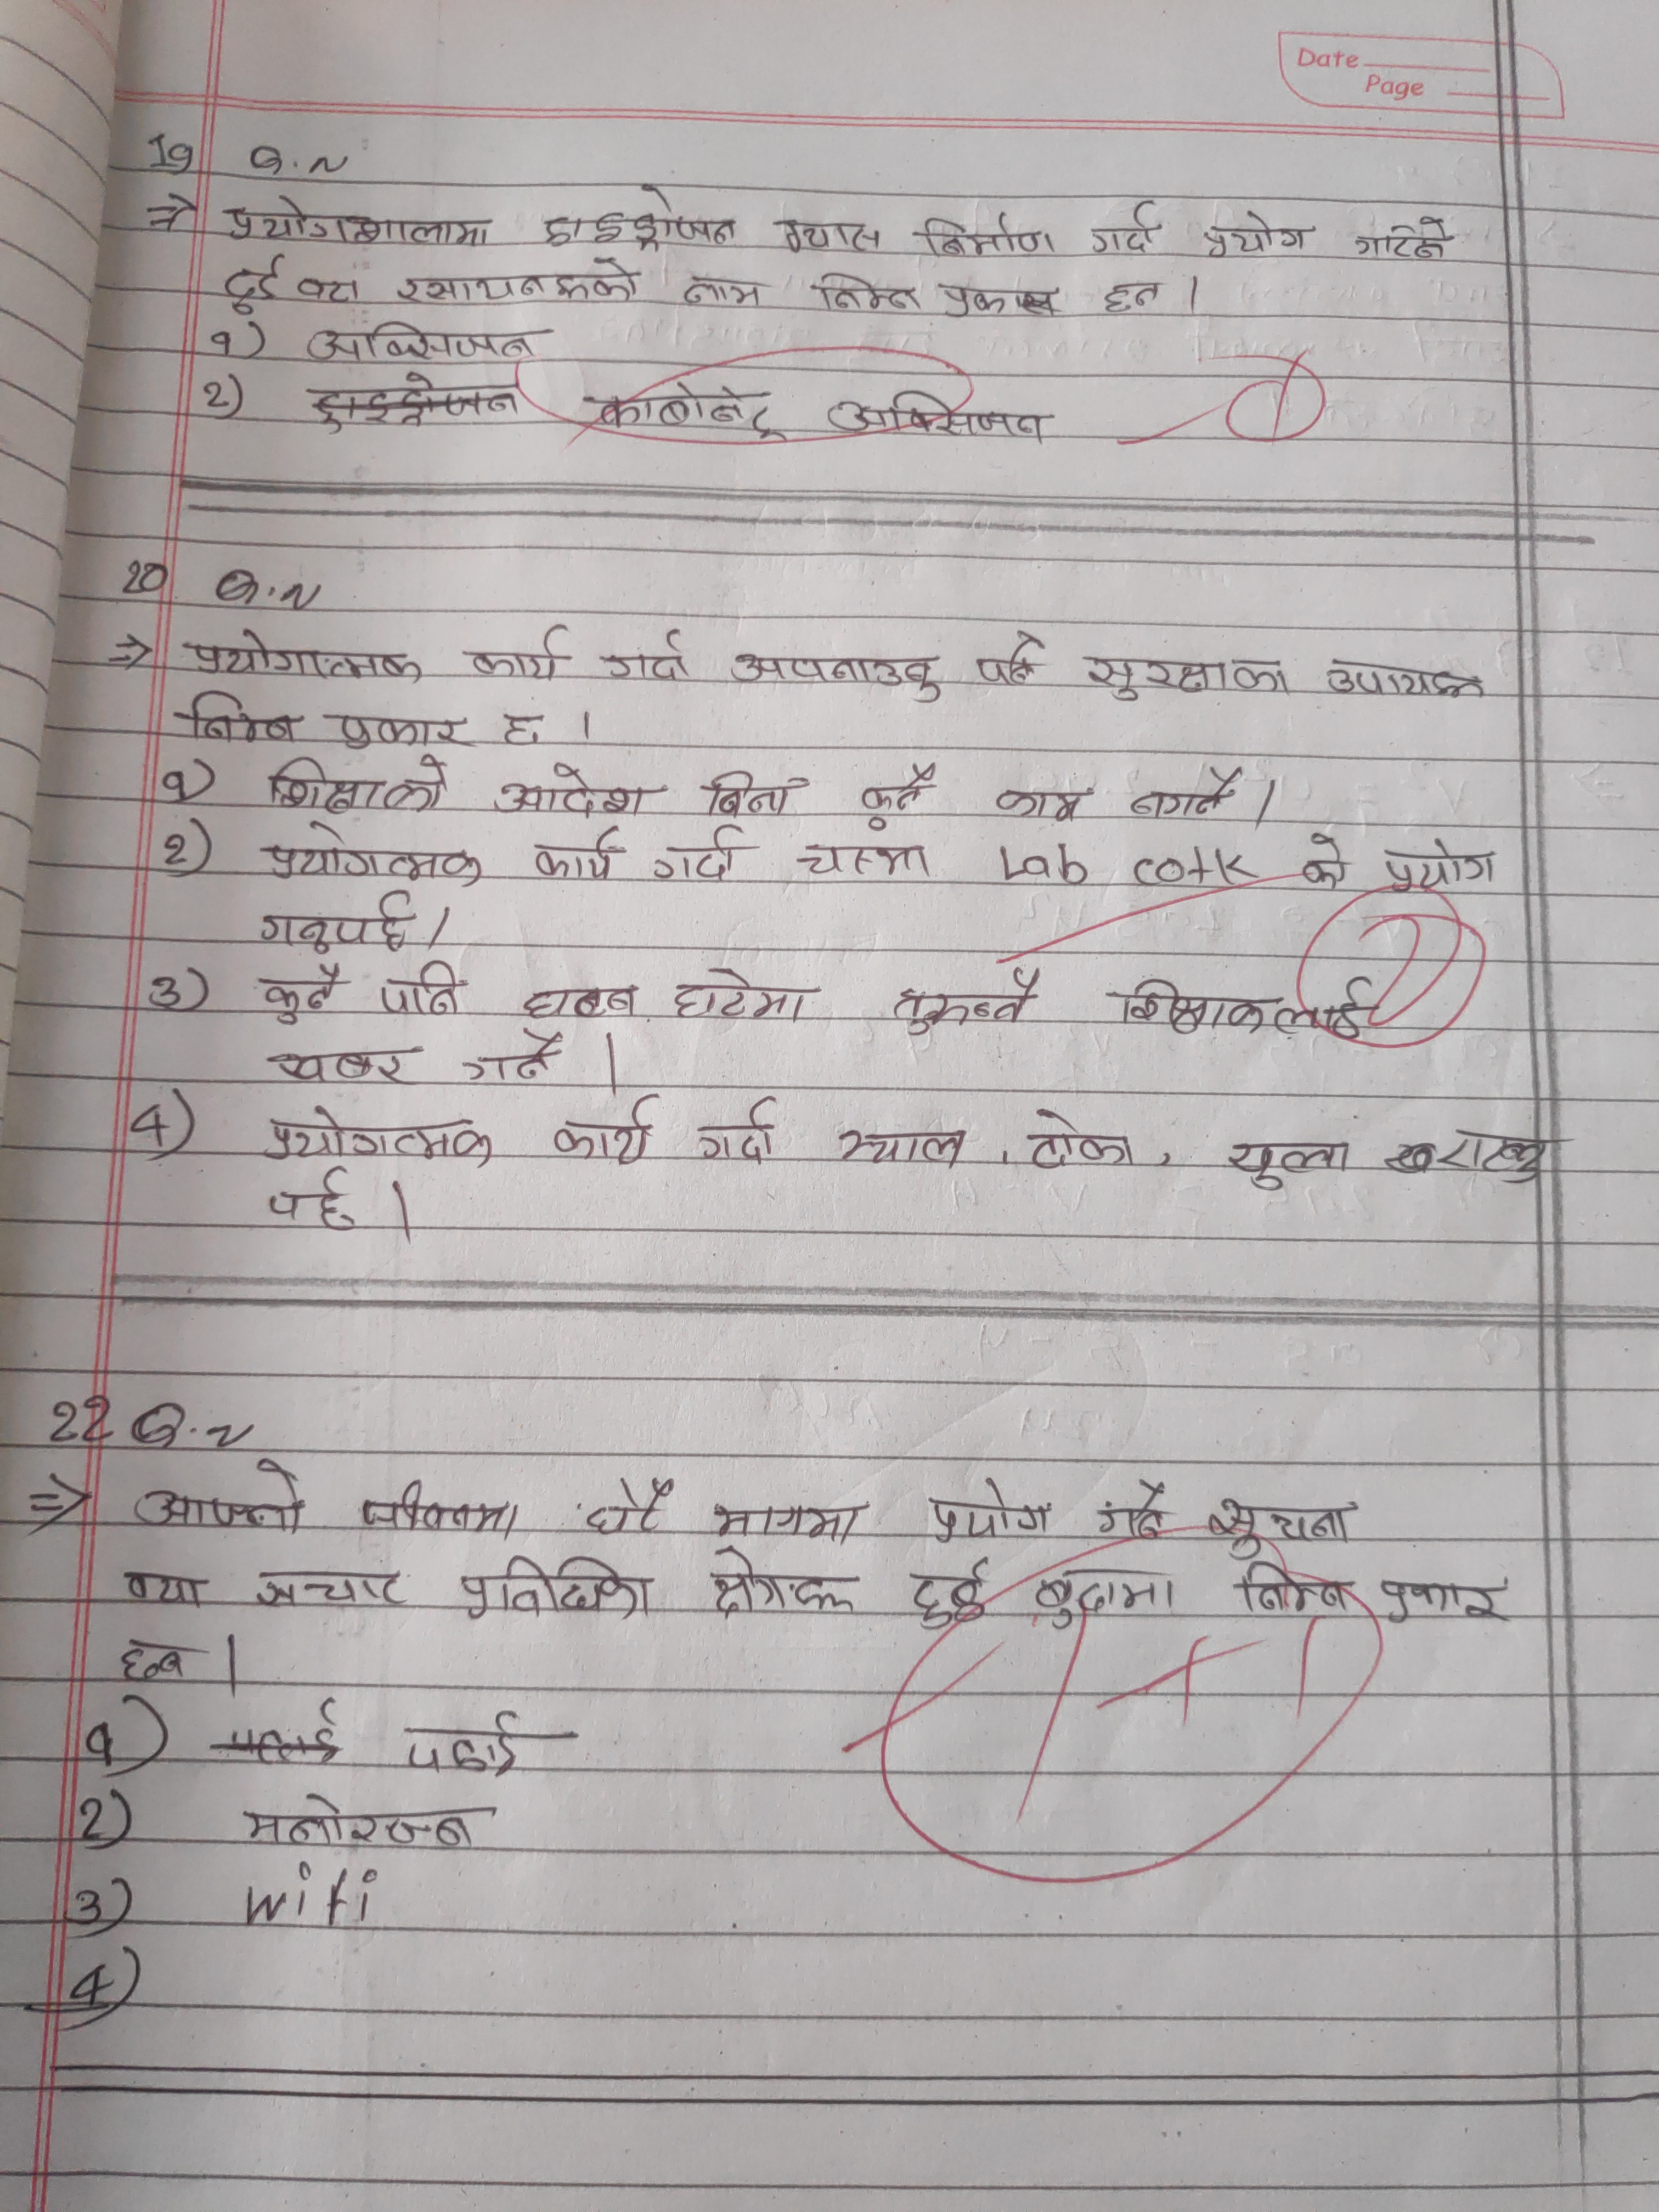text: (225, 192, 495, 256), (1117, 977, 1373, 1042), (263, 819, 486, 890), (455, 1548, 655, 1625), (240, 1789, 484, 1851), (538, 181, 746, 254), (267, 1106, 497, 1169), (132, 1458, 310, 1538), (817, 388, 1051, 449), (587, 376, 784, 448), (305, 312, 547, 366), (396, 258, 645, 310), (732, 650, 943, 711), (185, 627, 420, 681), (704, 1541, 854, 1623), (263, 752, 450, 817), (890, 967, 1051, 1040), (1080, 650, 1297, 700), (256, 890, 415, 958), (1204, 1491, 1363, 1559), (361, 1475, 526, 1538), (497, 759, 653, 822), (927, 1474, 1056, 1548), (1028, 1562, 1176, 1627), (673, 963, 812, 1029), (401, 1709, 532, 1778), (249, 1561, 404, 1618), (549, 1090, 659, 1169), (826, 1120, 974, 1176), (1222, 1134, 1354, 1195), (1023, 1106, 1138, 1174), (1323, 655, 1488, 702), (915, 207, 1058, 261), (265, 1160, 362, 1238), (1434, 1120, 1547, 1186), (1129, 759, 1244, 824), (1230, 1559, 1358, 1616), (709, 1496, 870, 1541), (462, 618, 573, 683), (267, 1038, 413, 1087), (1378, 840, 1499, 897), (181, 688, 305, 744), (906, 1554, 995, 1630), (1371, 1578, 1511, 1627), (690, 1094, 779, 1169), (333, 707, 474, 752), (458, 1029, 568, 1087), (795, 836, 932, 881), (1201, 207, 1314, 261), (769, 211, 889, 261), (938, 279, 1058, 329), (1352, 209, 1452, 270), (809, 268, 924, 320), (582, 1474, 674, 1538), (650, 824, 744, 887), (528, 827, 624, 888), (852, 761, 936, 831), (375, 960, 467, 1022), (1093, 1477, 1175, 1547), (256, 960, 343, 1024), (594, 627, 694, 681), (699, 768, 795, 820), (519, 981, 643, 1021), (1089, 193, 1164, 258), (220, 253, 289, 317), (967, 631, 1049, 685), (113, 1632, 193, 1684), (995, 782, 1094, 824), (120, 1568, 209, 1611), (1297, 831, 1352, 895), (678, 272, 765, 312), (1101, 273, 1164, 320), (293, 275, 364, 305), (498, 702, 544, 745)
